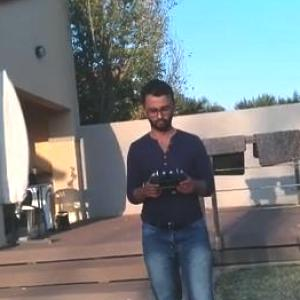follow: (121, 75, 224, 299)
